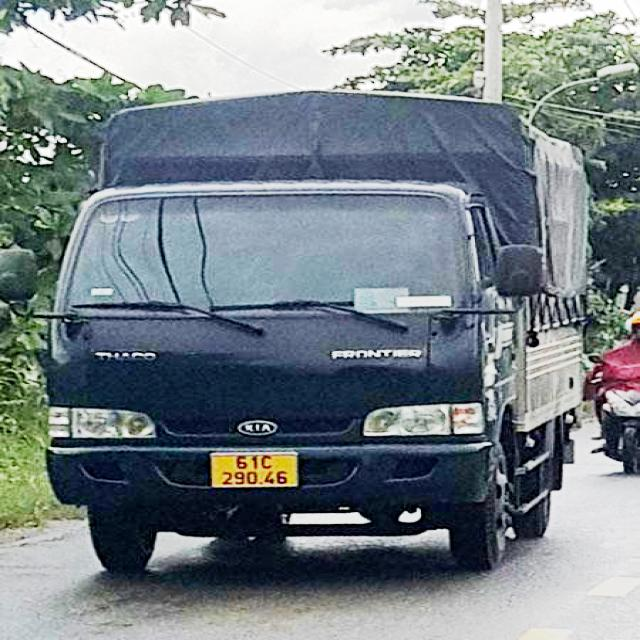license_plate: (206, 450, 303, 490)
